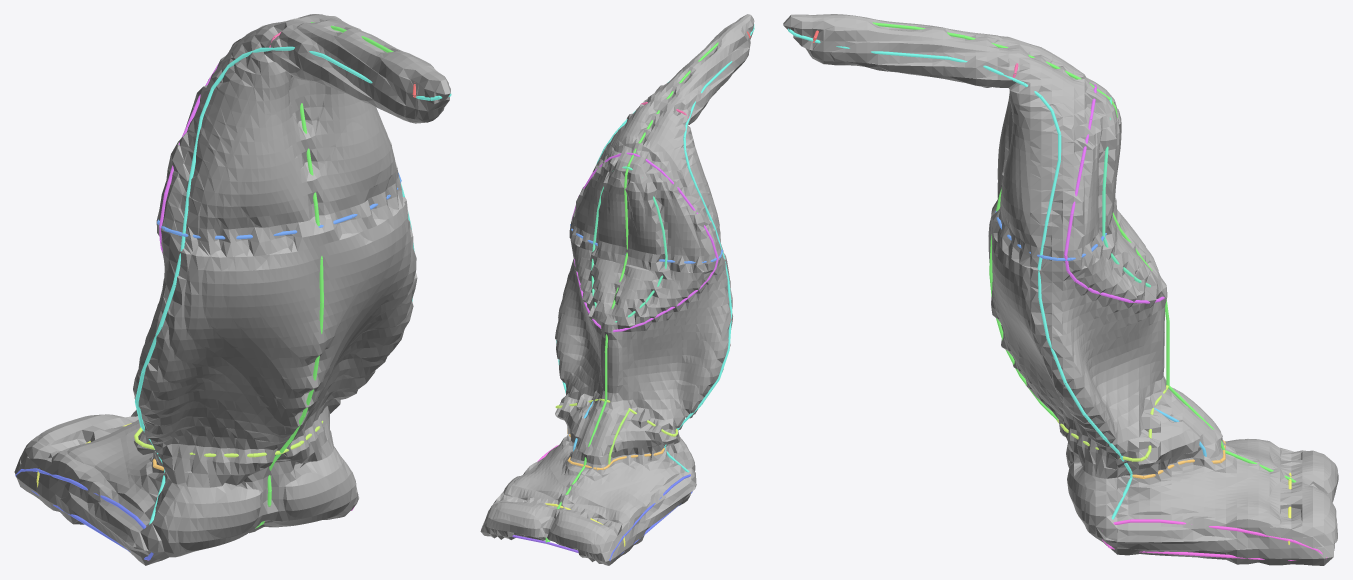
Rendered from t2f_vacuum.gltf.
3 views of the same model, side by side, from view 1: azimuth 30°, elevation 25°; view 2: azimuth 150°, elevation 25°; view 3: azimuth 270°, elevation 25° (orthographic). The views are drawn at different scales.
Size of the model in its own units: 0.317 by 0.6959 by 0.6859.
